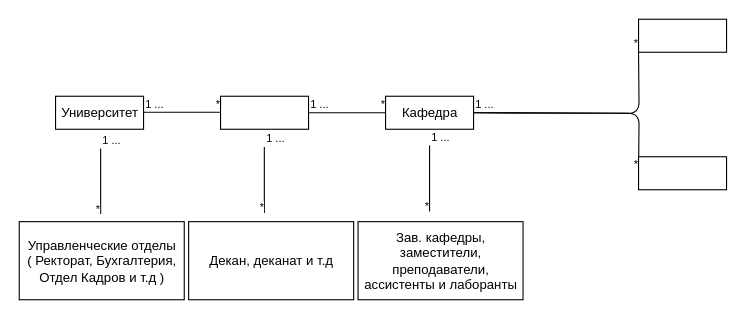
Some shapes in this 746 by 319 pixel diagram are drawn without their labels. The shapes that lost their labels are listed below. From the top down, each one's centre as x and y in pixels, then its label:
point 682,35: Аудитория
point 264,112: Факультет
point 682,173: Лаборатория
